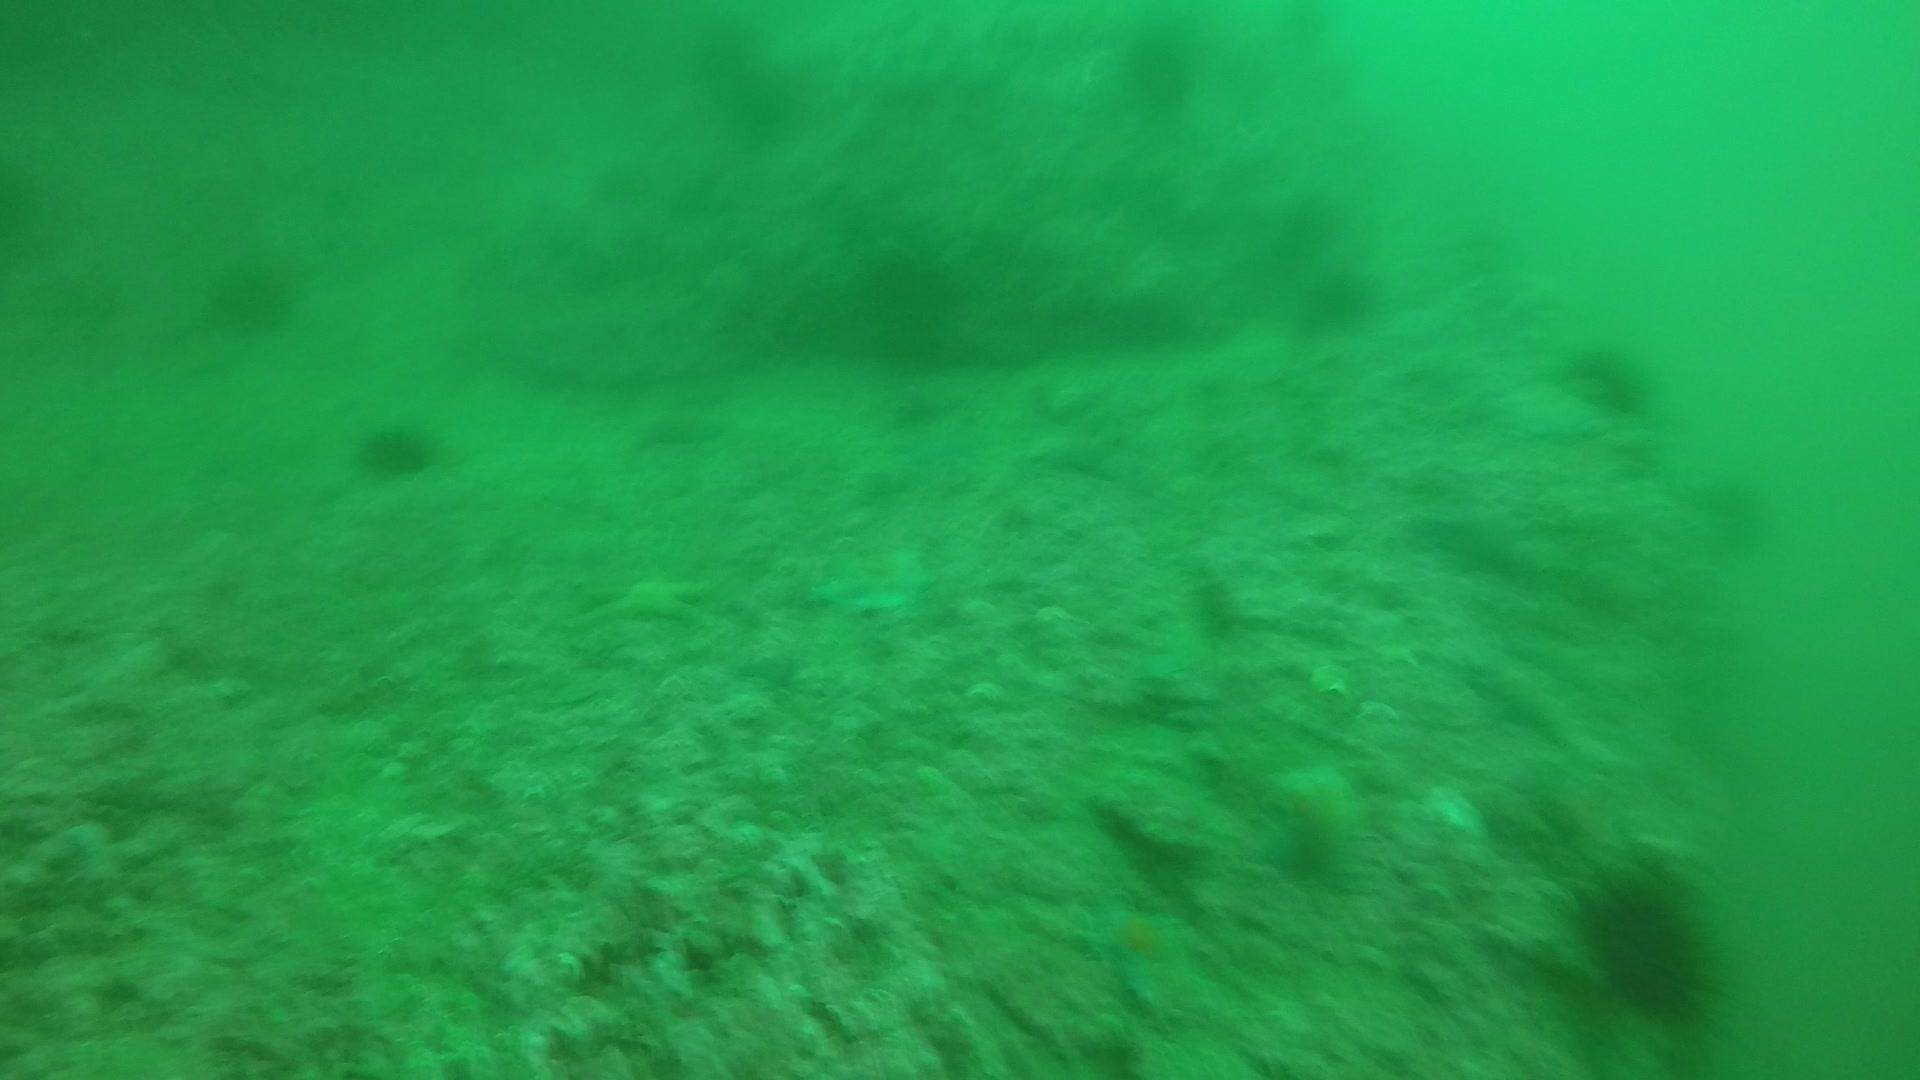echinus: (1567, 858, 1726, 1026), (1261, 753, 1369, 887), (852, 237, 967, 353), (202, 249, 305, 340), (1112, 20, 1205, 117), (1561, 335, 1659, 419), (1692, 465, 1778, 555), (1294, 258, 1382, 338), (352, 413, 442, 485)
starfish: (1076, 885, 1207, 1014), (1255, 752, 1375, 881), (804, 534, 939, 620), (1489, 377, 1607, 447), (589, 568, 711, 630)
